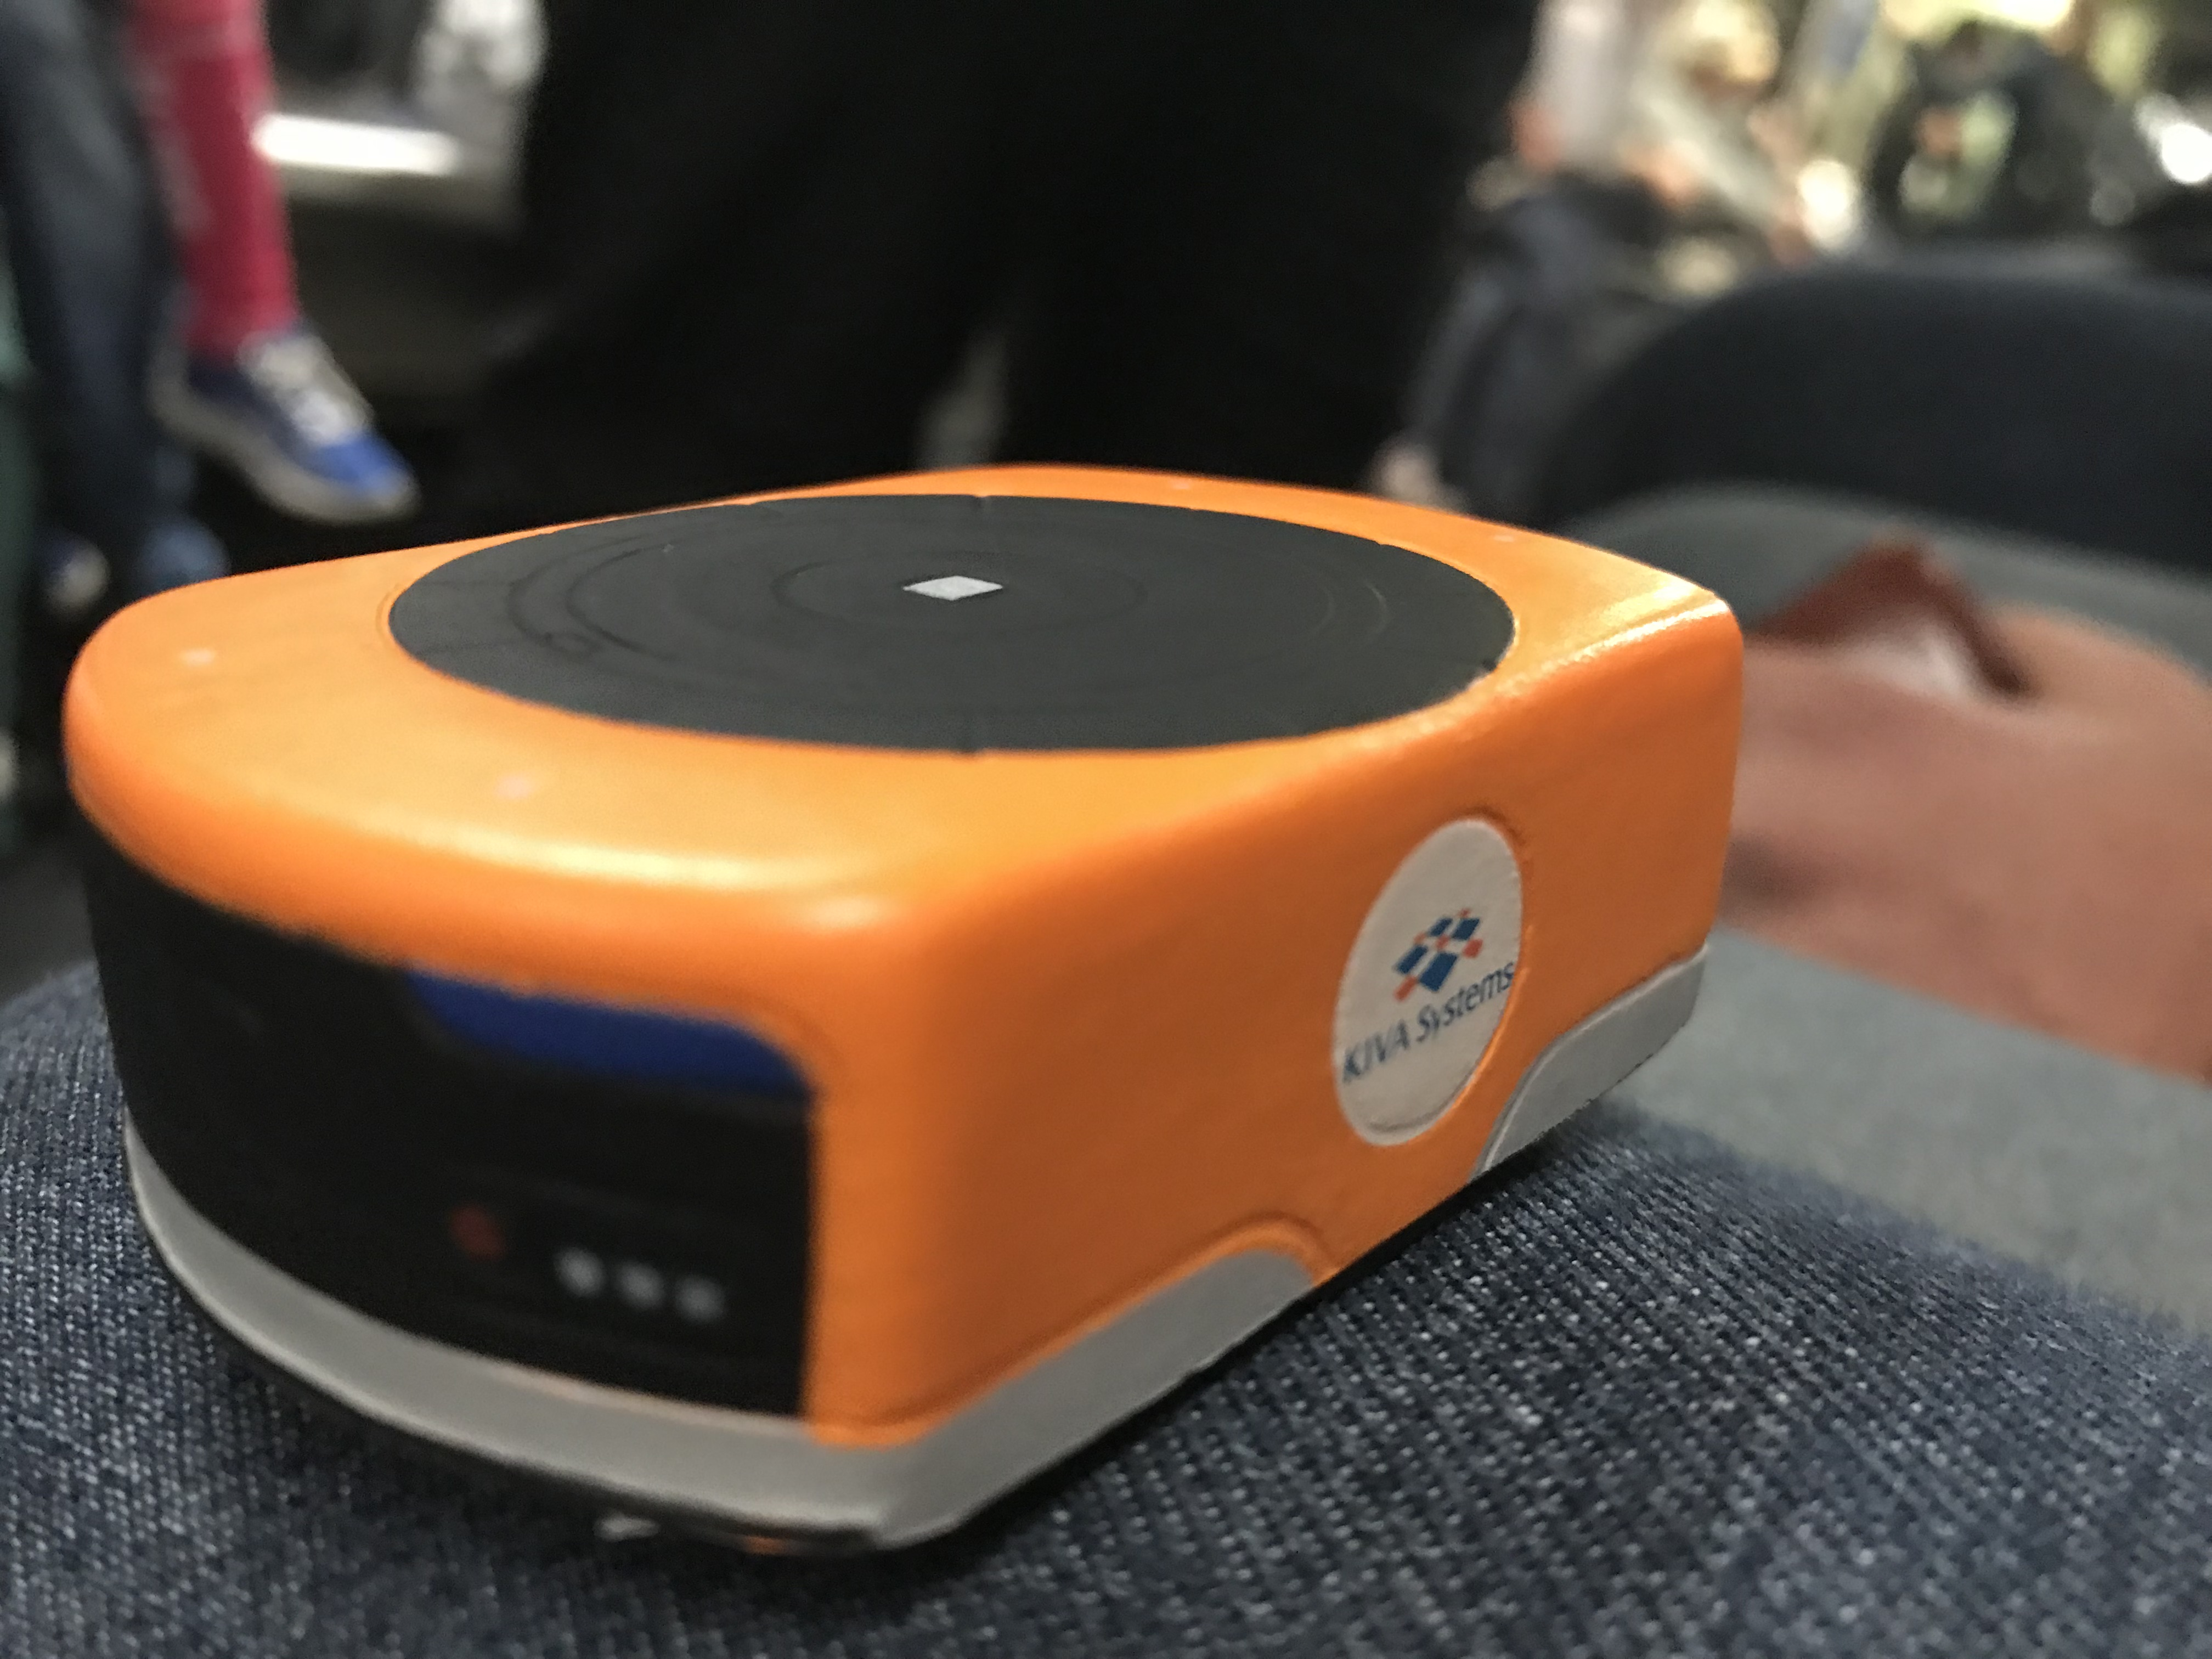amazon_bot: (59, 437, 1768, 1563)
